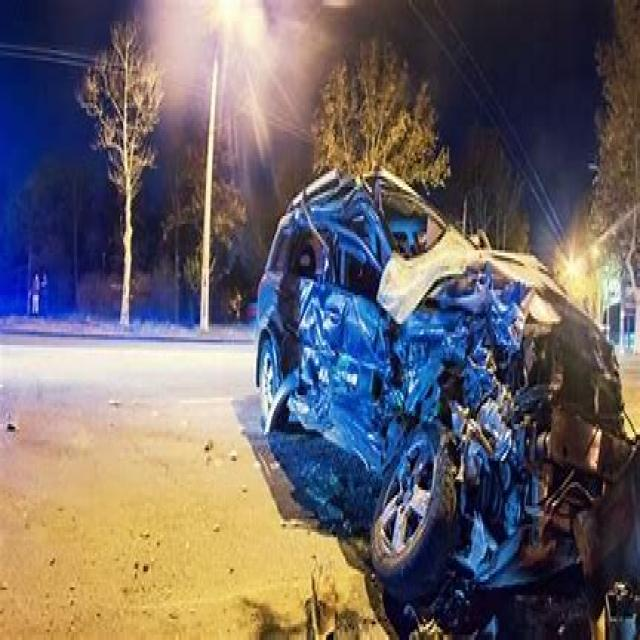Accident: (141, 38, 640, 640)
